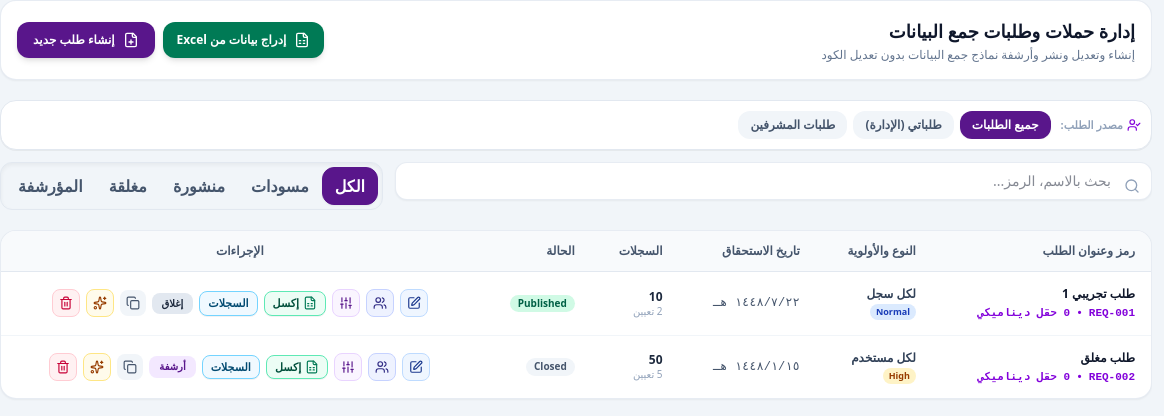
AdminRequests Component › filters requests by status using the filter buttons
Click the button "منشورة".
click(199, 186)  # box [160, 167, 238, 205]
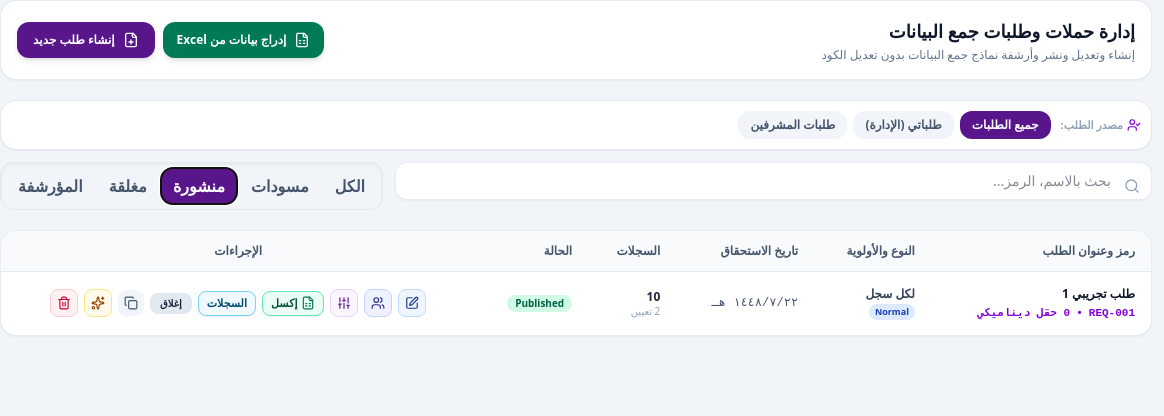
Expected: the text "طلب تجريبي 1" is shown, [1062, 285, 1135, 302]
Now the text "طلب مغلق" is gone
